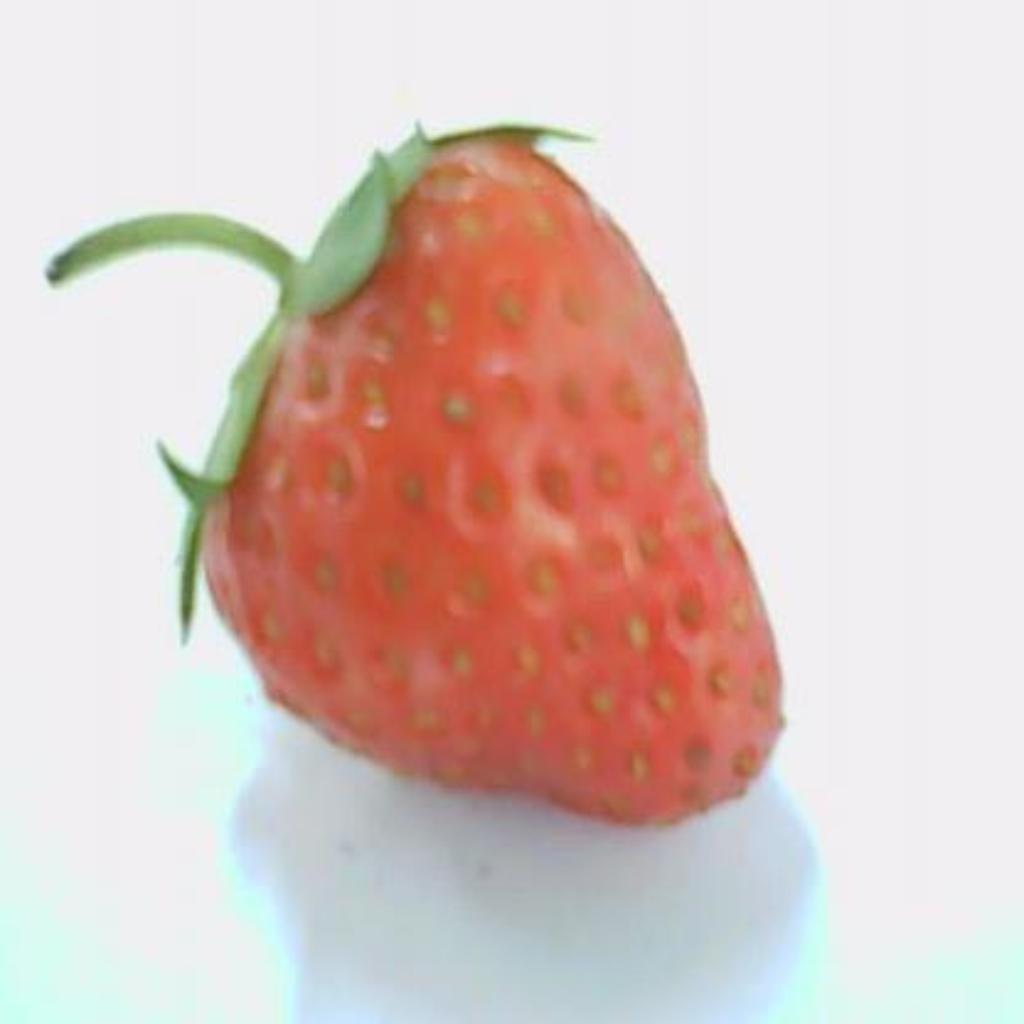strawberry: (48, 124, 782, 823)
